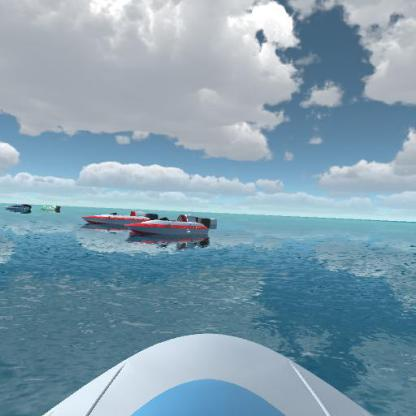usv0: (39, 200, 64, 215)
usv1: (3, 199, 35, 216)
usv3: (127, 209, 216, 246), (78, 205, 161, 236)
